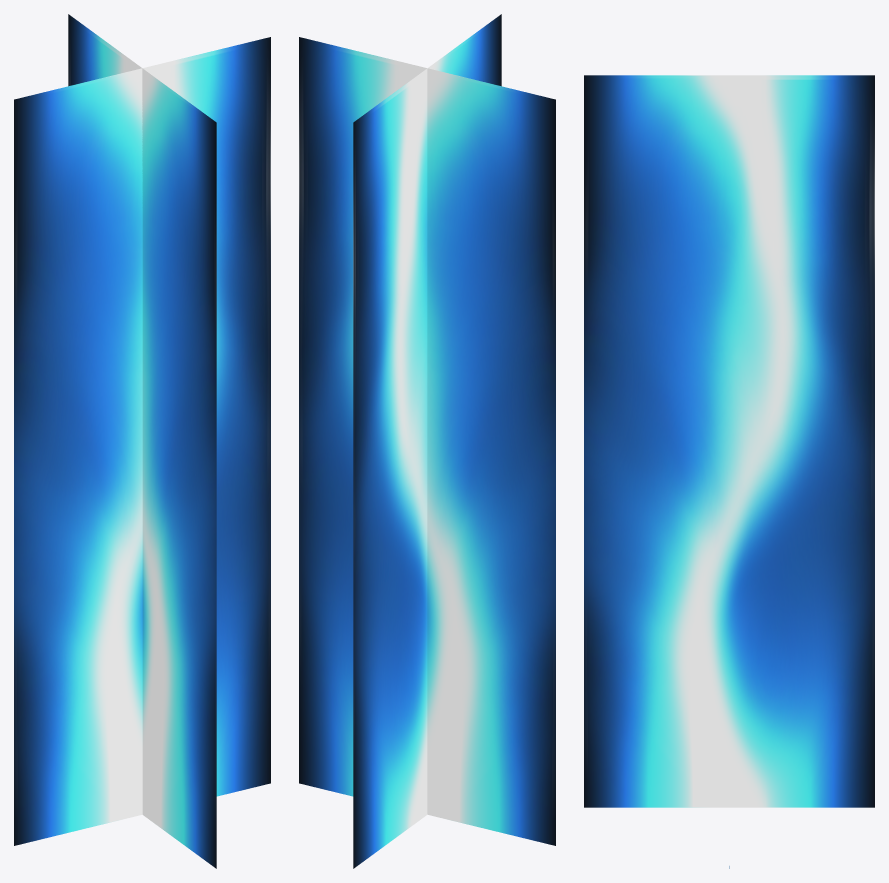
Rendered from electricity.gltf.
The picture shows the model from 3 angles, left to right: view 1: azimuth 30°, elevation 25°; view 2: azimuth 150°, elevation 25°; view 3: azimuth 270°, elevation 25°; orthographic projection.
Visible parts, largest first — view 1: audio_visual; view 2: audio_visual; view 3: audio_visual.
Part boxes in pixels (box(x1,y1,x2,y2)): audio_visual: box(14, 14, 270, 868); audio_visual: box(299, 14, 555, 868); audio_visual: box(584, 75, 874, 868).
Bounding box in the file's own units: 0.613 × 1.7 × 0.613.
1 material, 1 textured.
